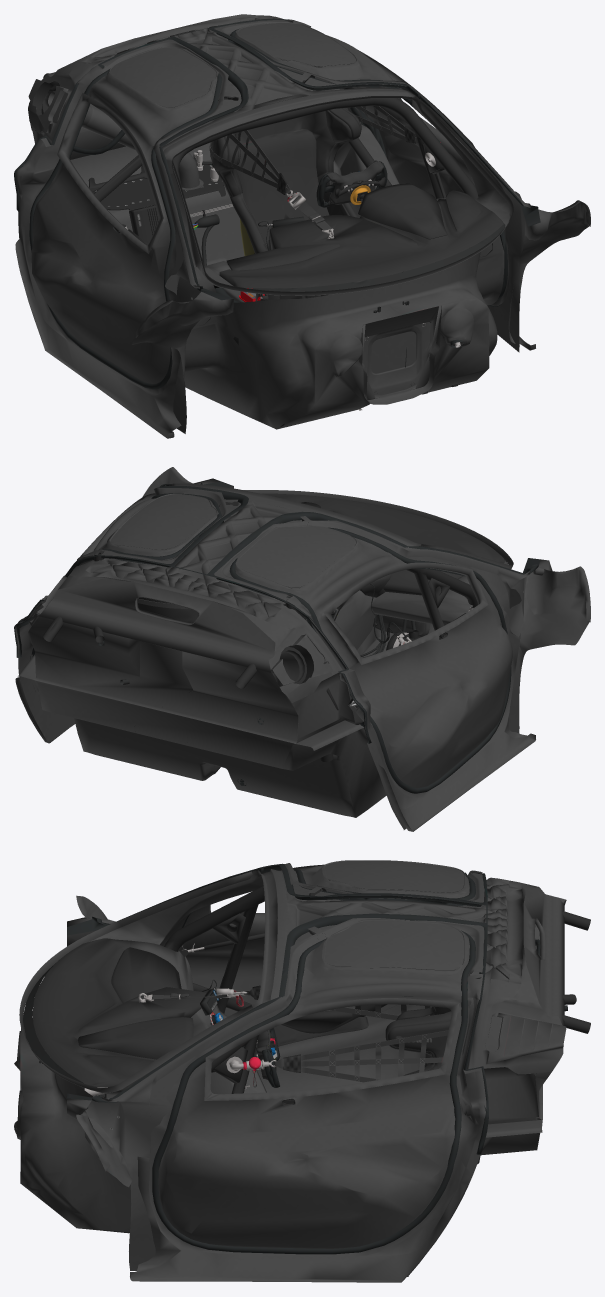
Rendered from gt_mcl_int.glb.
The picture shows the model from 3 angles, top to bottom: view 1: azimuth 30°, elevation 25°; view 2: azimuth 150°, elevation 25°; view 3: azimuth 270°, elevation 25°; orthographic projection. The views are drawn at different scales.
Visible parts, largest first — view 1: Object_103, Object_97, Object_143, Object_141, Object_123, Object_121, Object_127, STEER_0, Object_145; view 2: Object_103, Object_143, Object_97, Object_141, Object_123, Object_127; view 3: Object_103, Object_97, Object_143, Object_141, Object_121, Object_127, Object_145, Object_109.
Boxes of the visible parts, x1,y1,x2,y2 form: Object_103: [15, 14, 590, 438]; Object_97: [210, 108, 504, 296]; Object_143: [14, 19, 540, 389]; Object_141: [43, 19, 492, 326]; Object_123: [32, 72, 462, 394]; Object_121: [209, 106, 417, 230]; Object_127: [72, 145, 505, 426]; STEER_0: [326, 161, 383, 204]; Object_145: [125, 150, 460, 410]; Object_103: [15, 467, 590, 831]; Object_143: [14, 481, 540, 793]; Object_97: [138, 493, 504, 622]; Object_141: [43, 551, 477, 761]; Object_123: [31, 501, 465, 731]; Object_127: [103, 528, 504, 785]; Object_103: [14, 860, 566, 1282]; Object_97: [32, 938, 451, 1086]; Object_143: [67, 863, 567, 1254]; Object_141: [164, 872, 590, 1163]; Object_121: [151, 985, 448, 1087]; Object_127: [23, 960, 275, 1098]; Object_145: [84, 943, 276, 1096]; Object_109: [110, 943, 539, 1129].
Size of the model in its own units: 1.99 by 1.07 by 1.99.
1 material, 1 textured.
